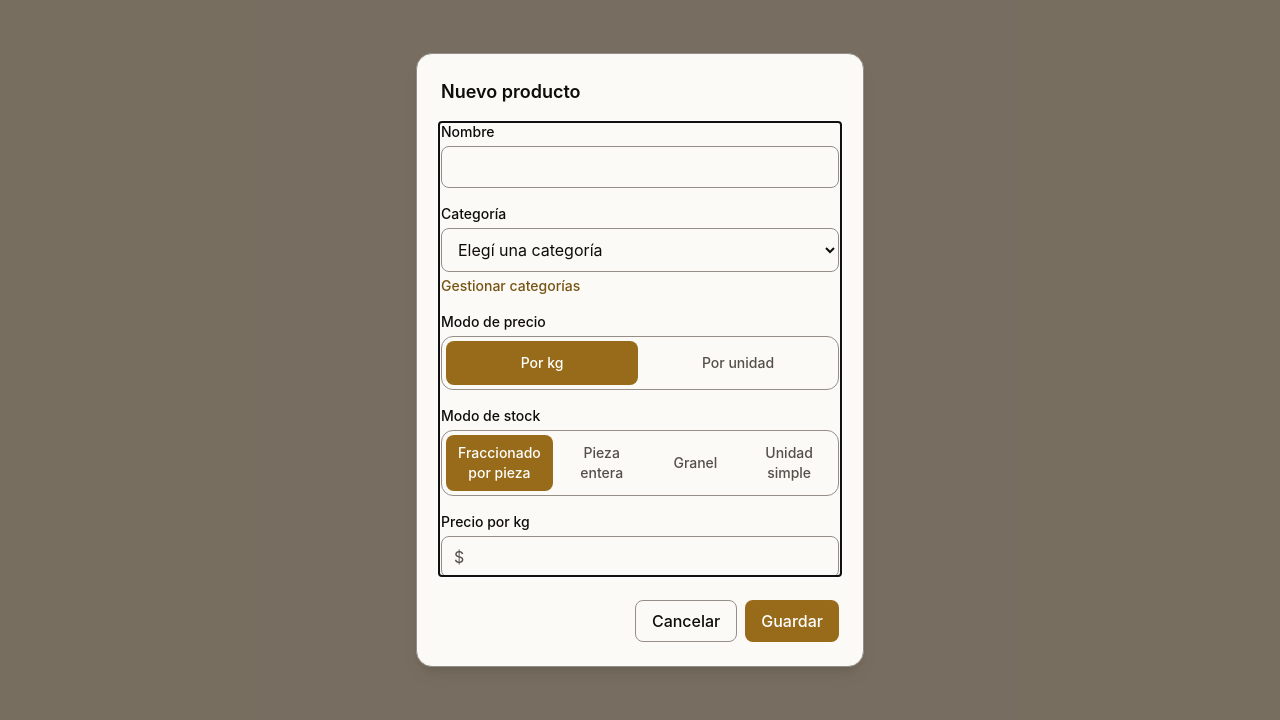
ModalProducto - picker de categoría con creación inline (UI-5b, docs/06-ui-ux.md §2) › éxito: crea la categoría, la deja SELECCIONADA por nombre y vuelve al select
The image size is (1280, 720).
Select "+ Nueva categoría…" in the dropdown labelled "Categoría" at point(640, 250), box 441,228 -> 839,272
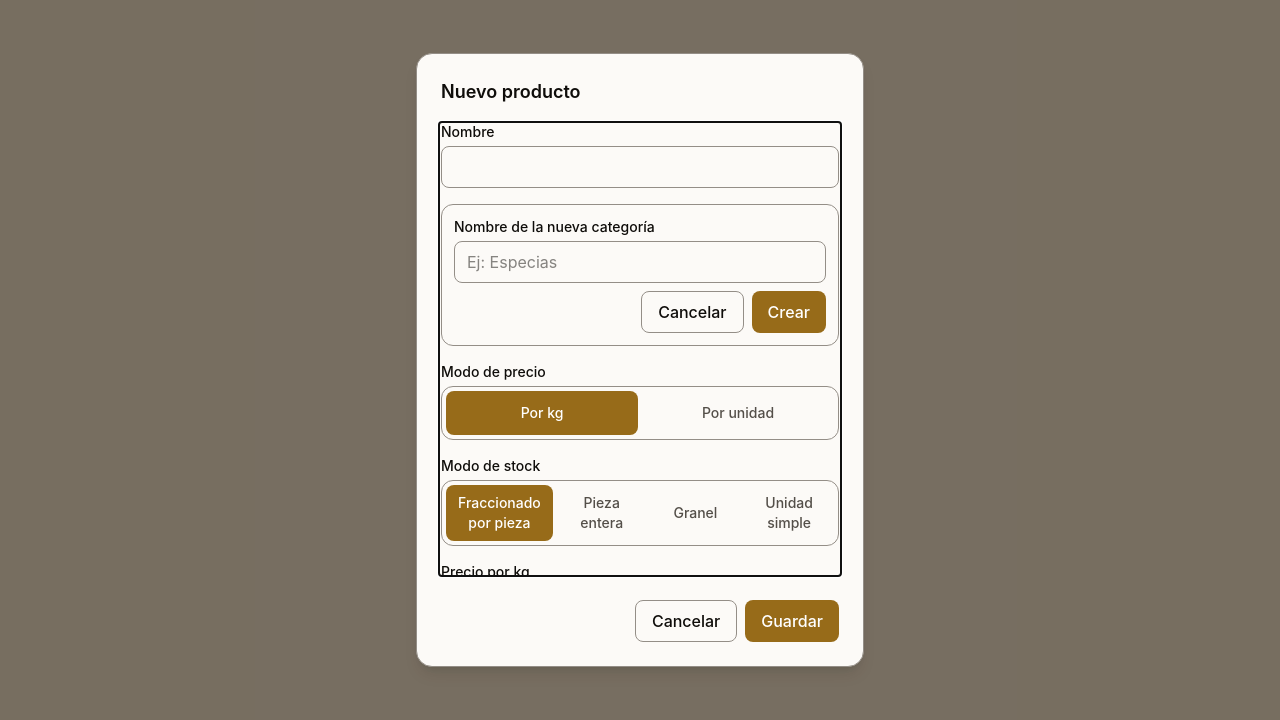
Type "Especias" into the field labelled "Nombre de la nueva categoría" at point(640, 262), box 454,241 -> 826,283
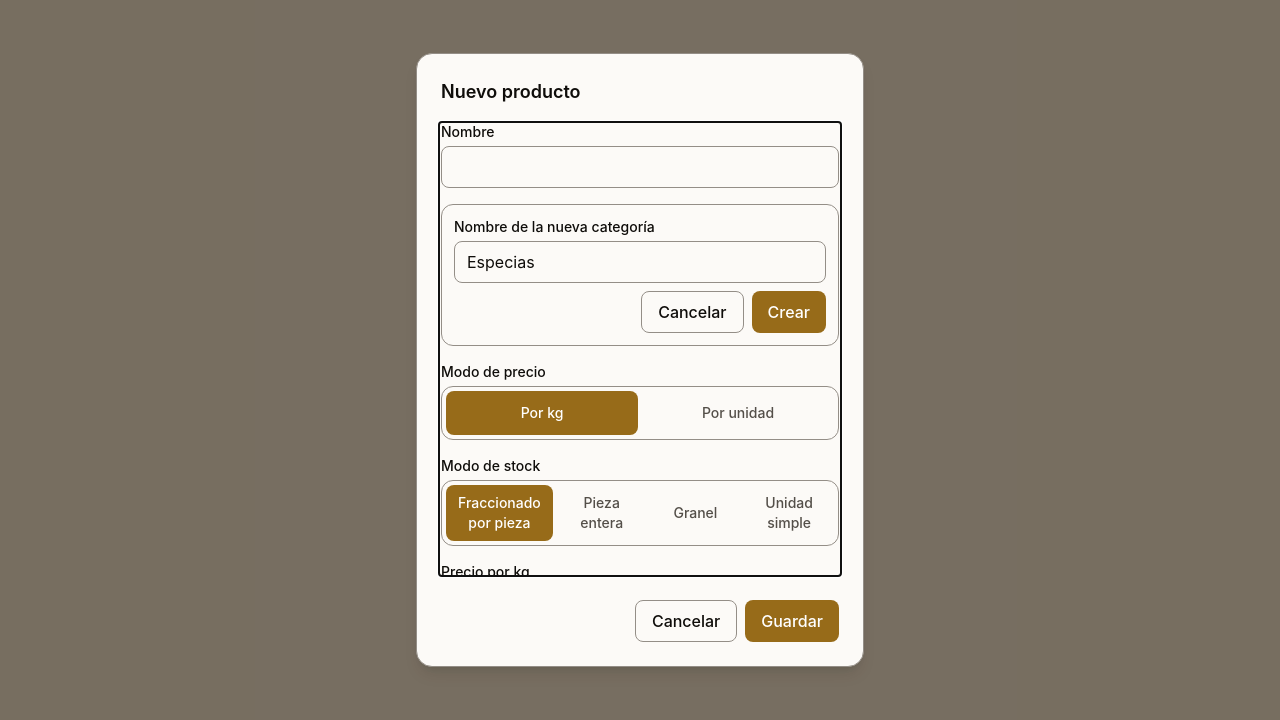
Click the button "Crear" at point(789, 312), box 752,291 -> 826,333
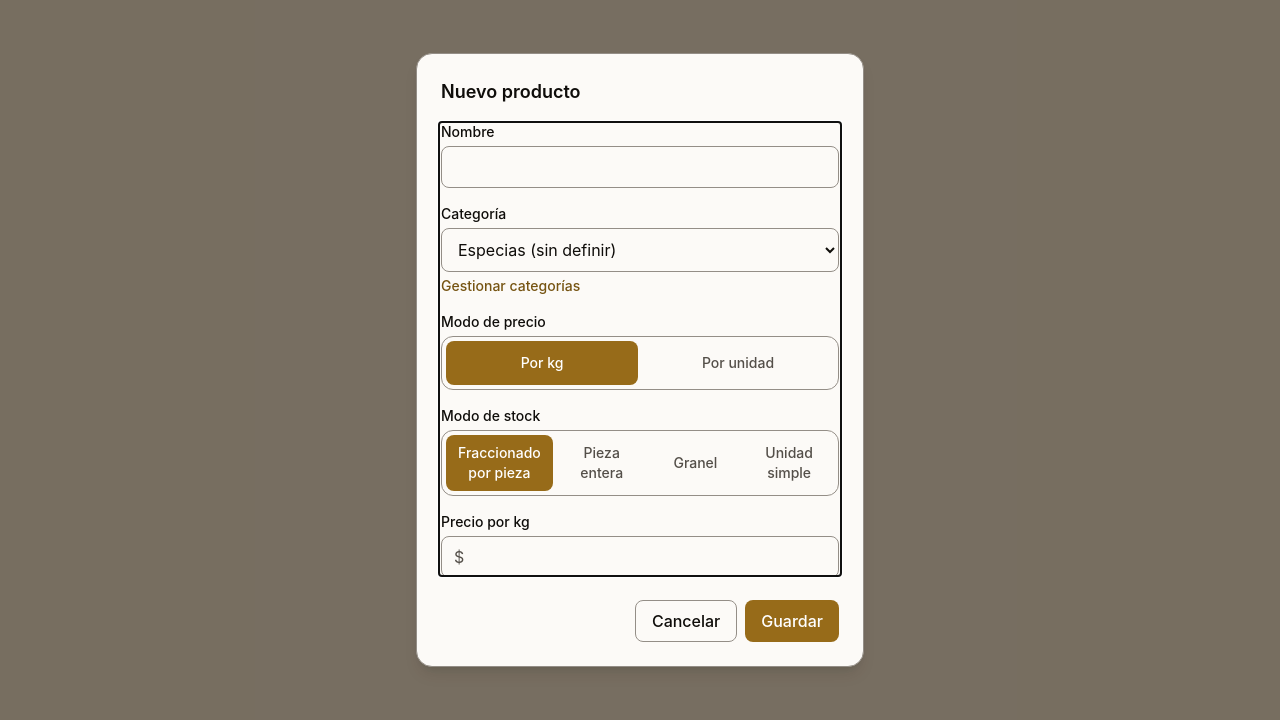
Expected: the dropdown labelled "Categoría" shows "Especias (sin definir)", 441,228 -> 839,272
